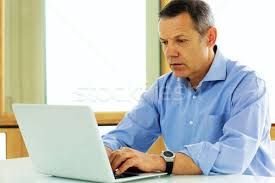white_male: (145, 12, 217, 81)
